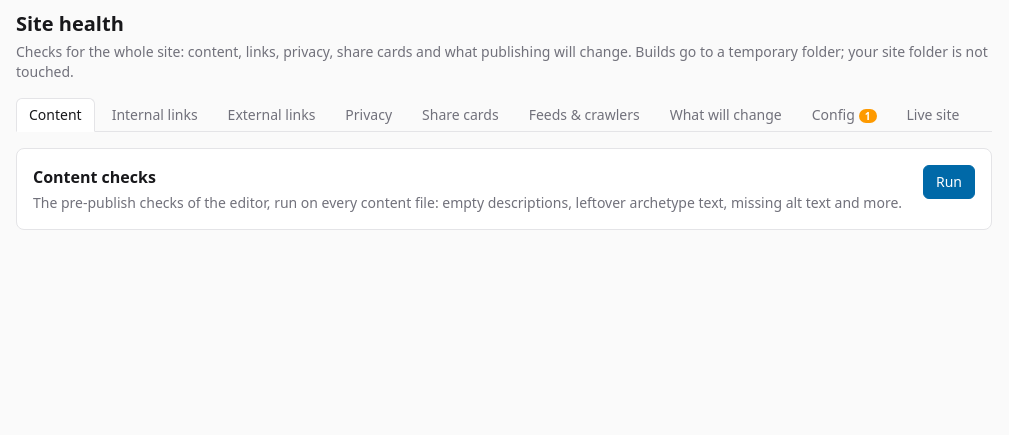
HealthView › checks external links, using results cached within a day
The image size is (1009, 435).
Click the tab "External links".
click(272, 115)  # box [215,98,328,132]
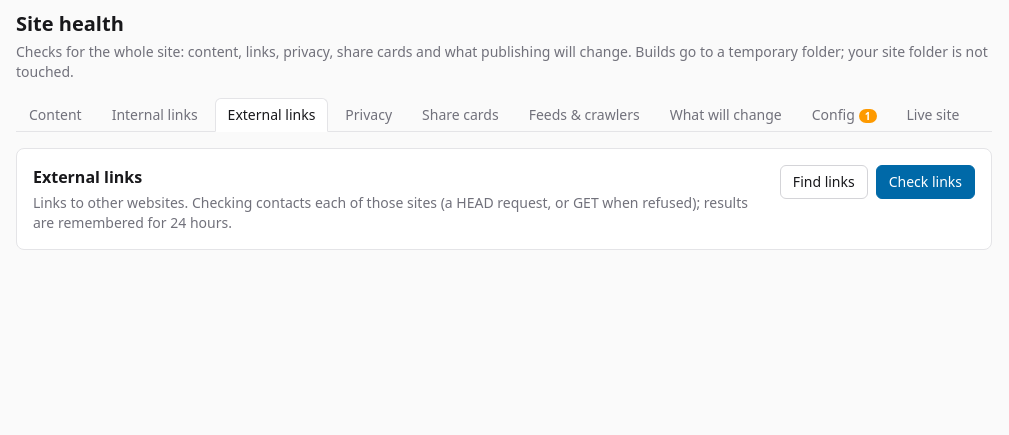
Click the button "Check links".
click(925, 182)  # box [876,165,975,199]
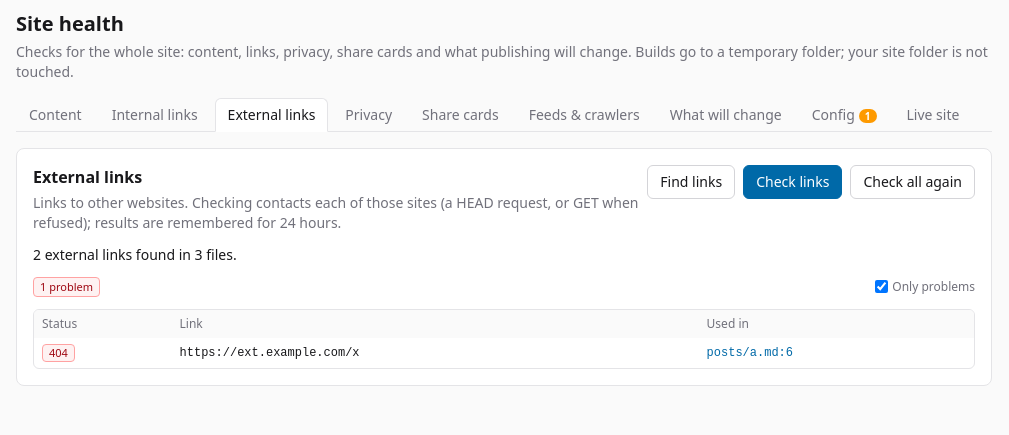
Check: the panel shows "2 external links found in 3 files.", box [33,245,237,264]
Check: the panel shows "1 problem", box [40,279,93,294]
Check: the panel shows "404", box [49,345,68,360]
Click the checkbox labelled "Only problems".
click(882, 287)  # box [875,280,888,293]
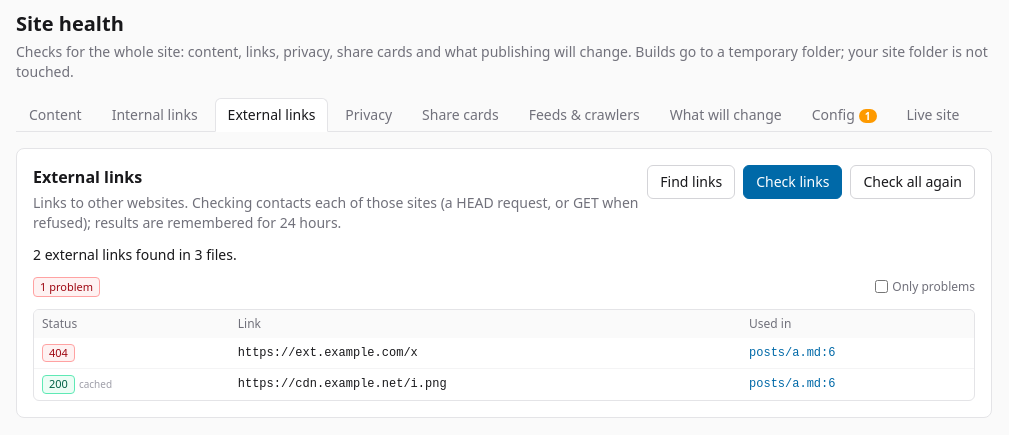
Check: the panel shows "cdn.example.net", box [238,377,447,391]
Check: the panel shows "cached", box [79,377,112,391]
